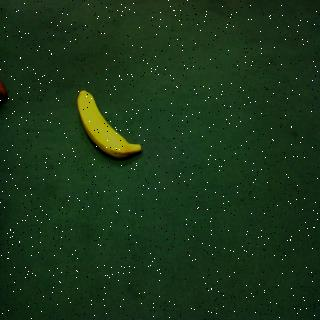banana: (71, 85, 146, 167)
